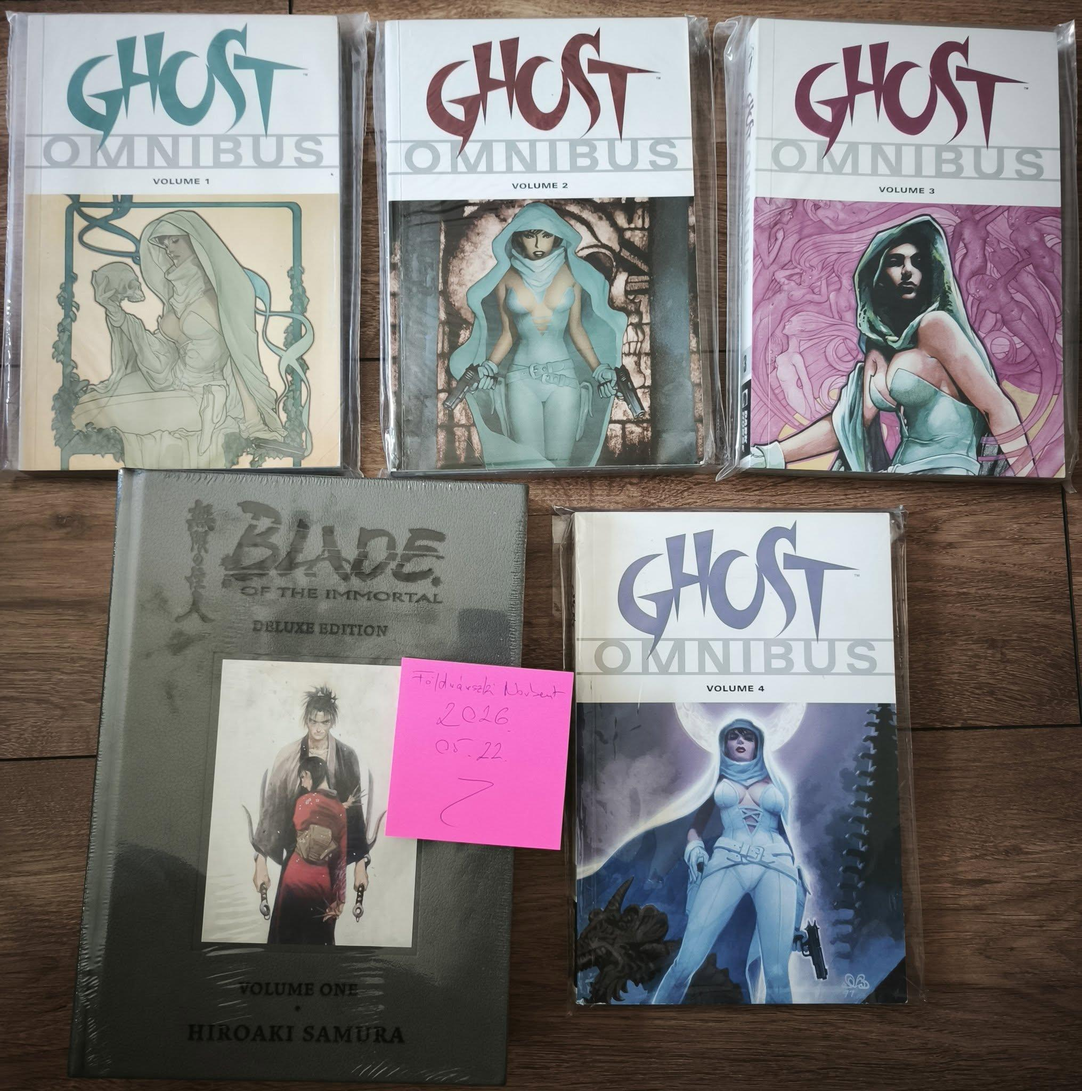comic: (69, 468, 526, 1089), (563, 504, 920, 1010), (2, 10, 366, 475), (718, 19, 1077, 478), (372, 15, 720, 475)
